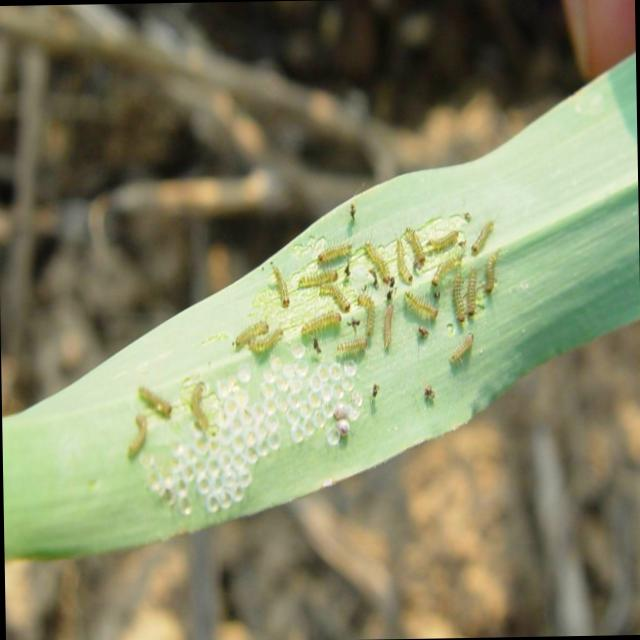pest: (404, 286, 442, 332), (186, 380, 211, 439), (363, 242, 393, 285), (271, 261, 295, 313), (137, 387, 177, 418), (129, 418, 156, 459), (300, 315, 344, 339), (256, 327, 286, 361), (429, 251, 463, 280), (428, 230, 462, 258), (484, 255, 507, 296), (226, 322, 276, 340), (359, 292, 378, 338), (451, 274, 467, 327), (448, 337, 478, 364), (397, 241, 415, 286), (315, 245, 351, 267), (383, 301, 397, 357), (474, 221, 497, 255), (408, 227, 426, 269), (322, 283, 352, 307), (466, 271, 482, 316), (302, 268, 333, 290), (338, 338, 370, 356), (405, 226, 409, 229)
